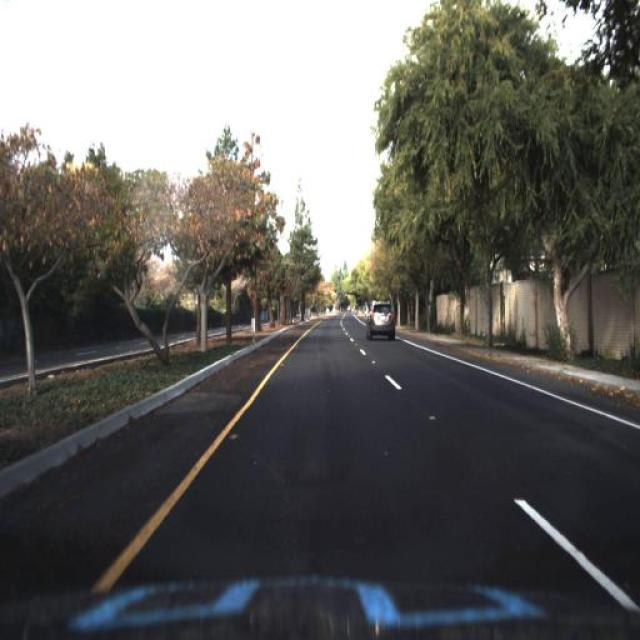car: (365, 298, 396, 344)
